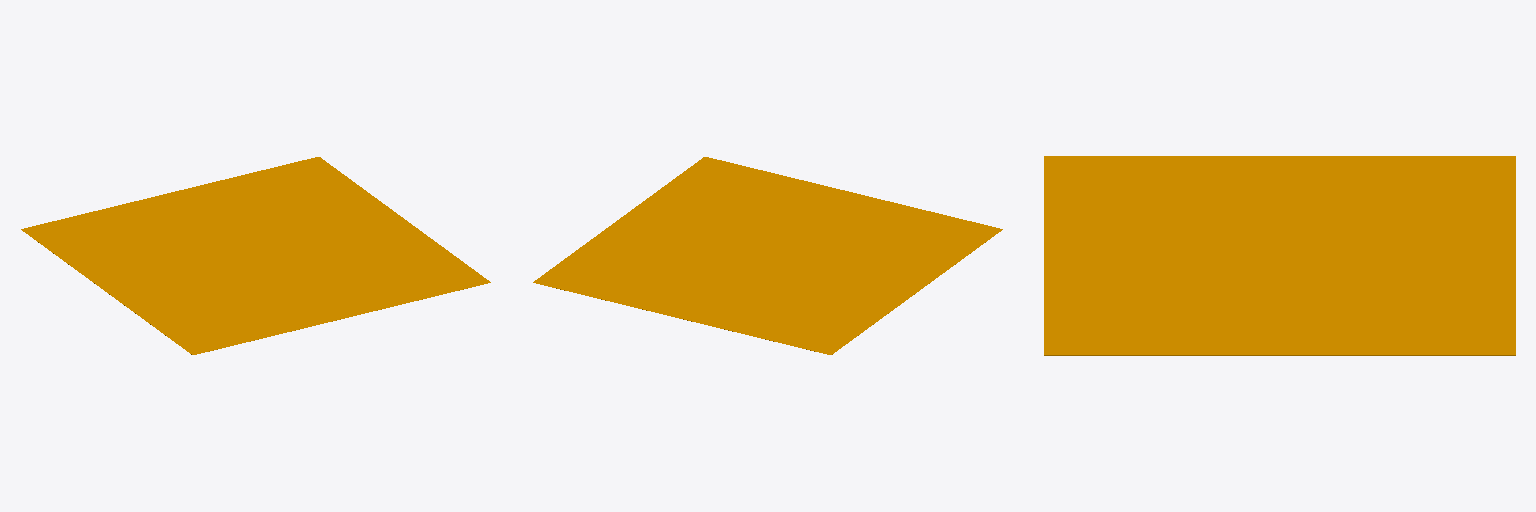
URDF robot description (D2):
<?xml version="1.0"?>

<robot name="D2">

	<link name="D2">
    		<inertial>
      			<origin xyz="-0.99 -0.737 0" /> 
      			<mass value="10.0" />
      			<inertia  ixx="1.0" ixy="0.0"  ixz="0.0"  iyy="1.0"  iyz="0.0"  izz="1.0" />
    		</inertial>
    		<visual>
      			<origin xyz="-0.99 -0.737 0"/>
      			<geometry>
        			<box size="0.5 0.5 0.0001" />
      			</geometry>
			<material name="surface">
				<texture filename="D2.jpg"/>
			</material>
    		</visual>
    		<collision>
      			<origin xyz="-0.99 -0.737 0"/>
      		<geometry>
        		<box size="0.5 0.5 0.0001" />
      		</geometry>
    		</collision>
  	</link>	

</robot>

--- Facts derived from the render (not from the file) ---
3 views of the same robot in one strip: view 1: azimuth 30°, elevation 25°; view 2: azimuth 150°, elevation 25°; view 3: azimuth 270°, elevation 25° (orthographic).
Robot: D2 — 1 links, 0 joints (none); root link D2; default pose: all joints at 0.
Links seen in each view (by area): view 1: D2; view 2: D2; view 3: D2.
Boxes of the visible links, bbox=[...] form: D2: bbox=[21, 157, 490, 354]; D2: bbox=[533, 157, 1002, 354]; D2: bbox=[1044, 156, 1515, 355].
Bounding box of the posed robot: 0.5 × 0.5 × 0.0001 m (x, y, z).
Geometry: primitives only (box / cylinder / sphere), no mesh files.
